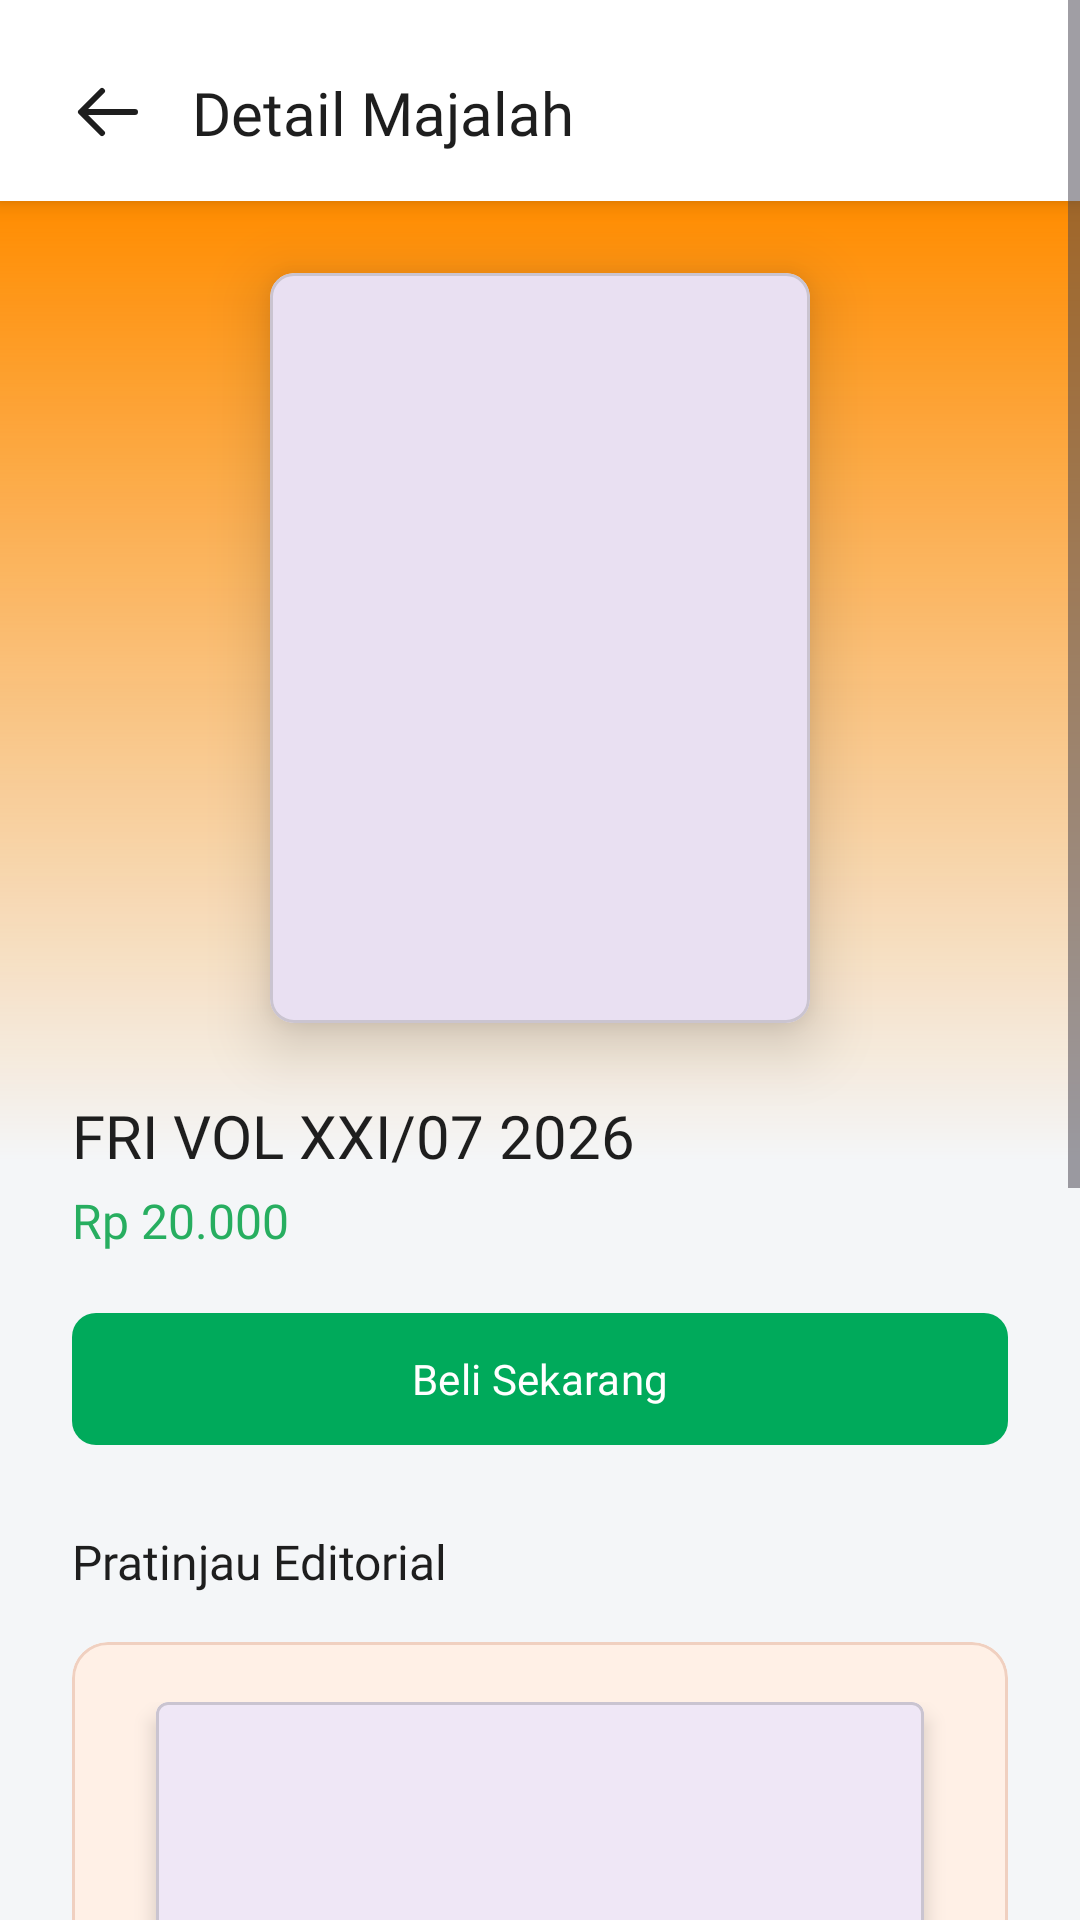

Icon click points for this 1080px×1920px phone screenshot, format [x,y]:
left arrow: [108,112]
